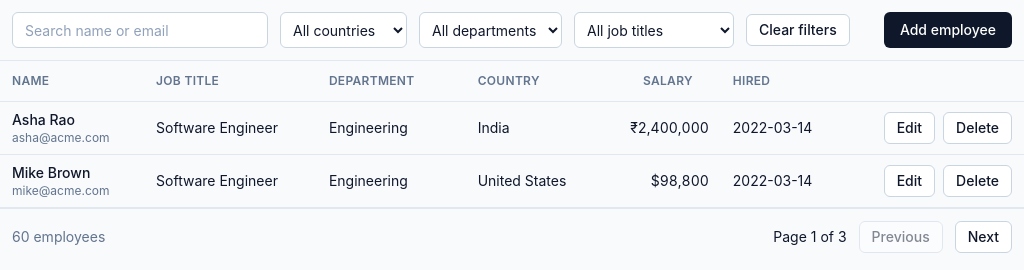
it: EmployeesPage › filters › clears search and filters with Clear filters
Select "India" in the dropdown named "country" at {"x": 344, "y": 30}, box [280,12,407,48]
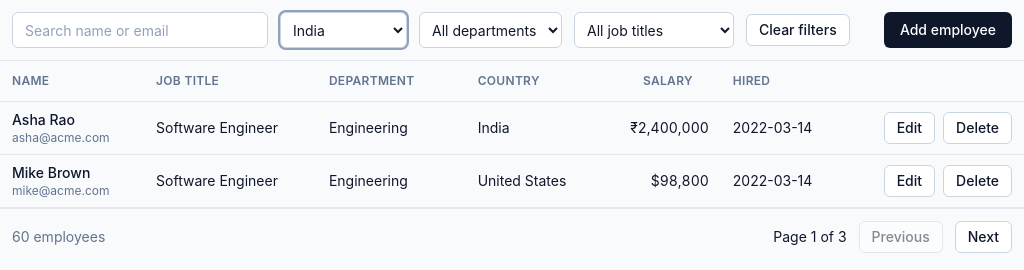
Type "asha" into the search field labelled "Search name or email" at {"x": 140, "y": 30}, box [12,12,268,48]
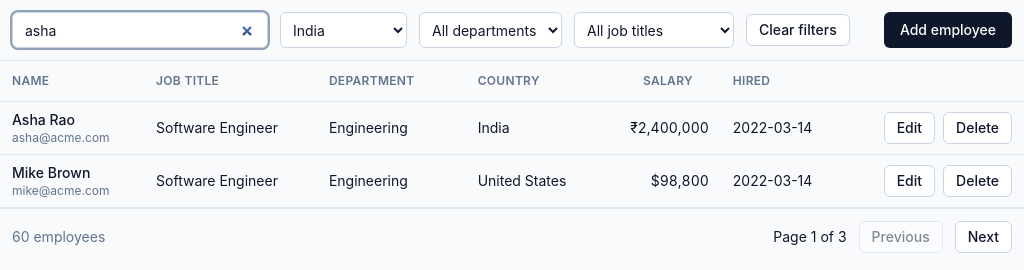
Click the button "Clear filters" at {"x": 798, "y": 30}, box [746,14,850,46]
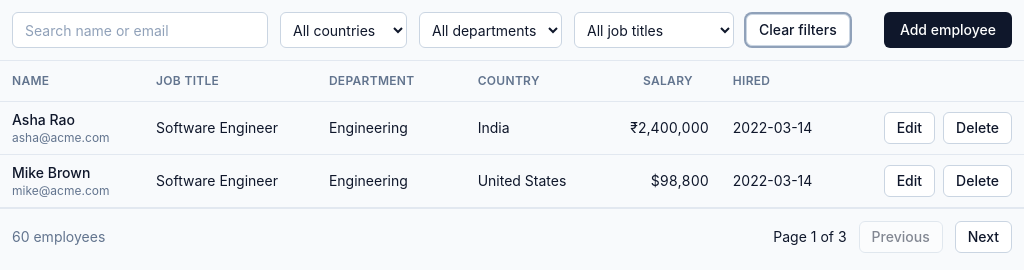
Expected: the search field labelled "Search name or email" is empty, [12,12,268,48]
